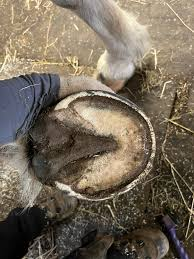horsesole: (47, 90, 157, 201)
